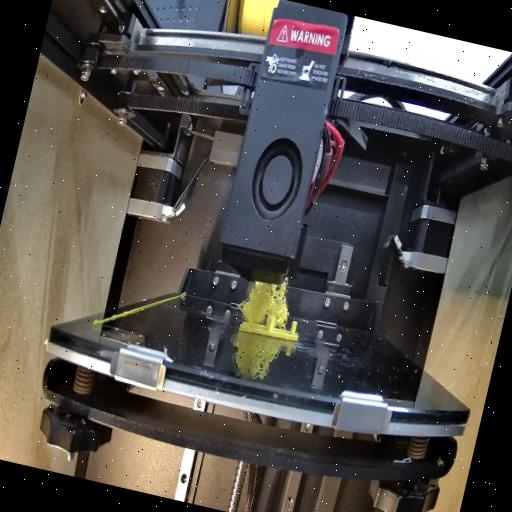spaghetti: (240, 274, 296, 330)
